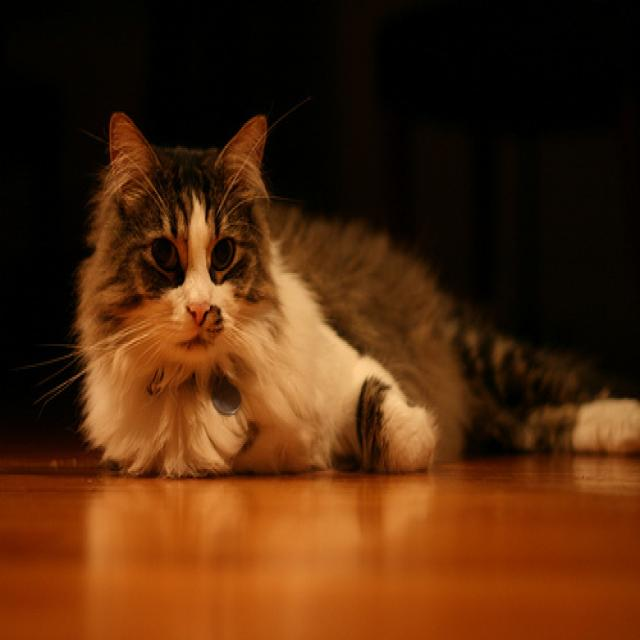cat: (108, 110, 264, 360)
